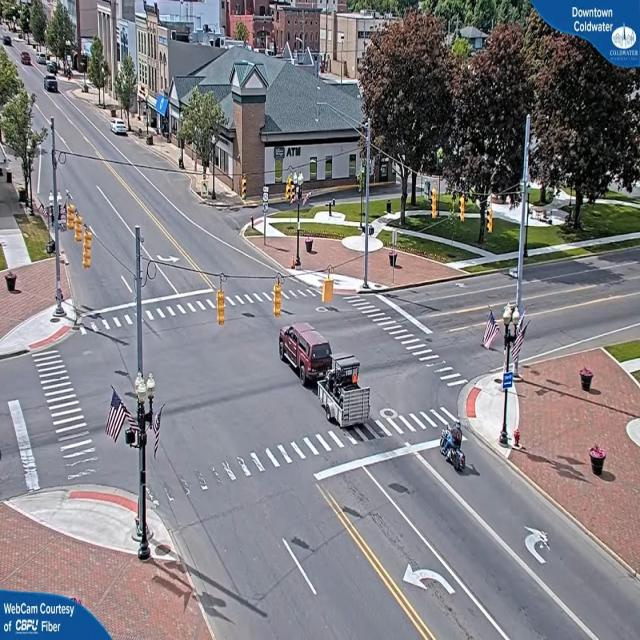car: (278, 320, 335, 386)
motorbike: (441, 423, 469, 474)
